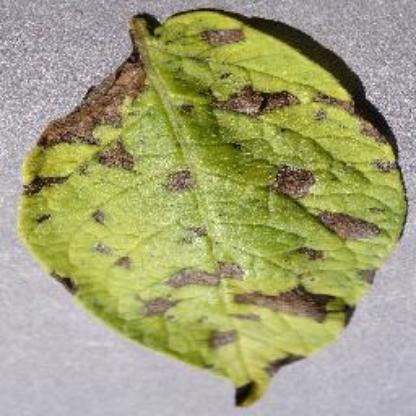Early-Blight: (23, 9, 408, 404)
